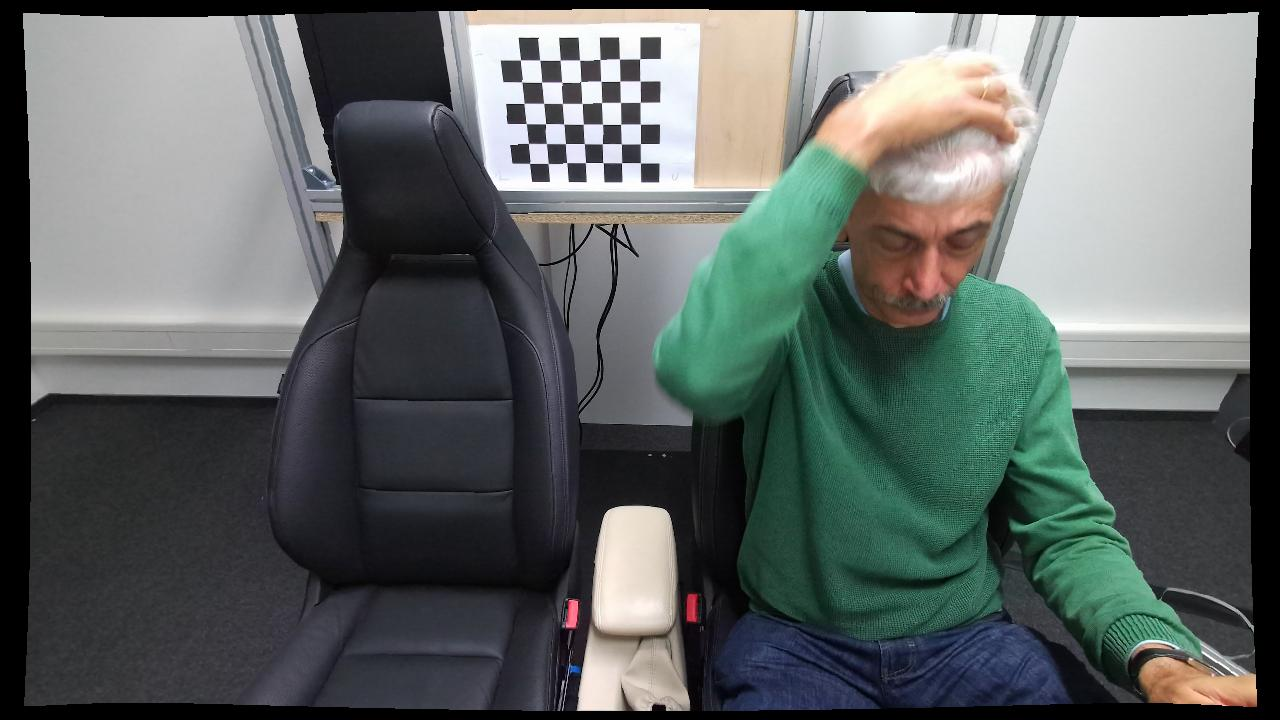Distracted: (653, 46, 1203, 707)
